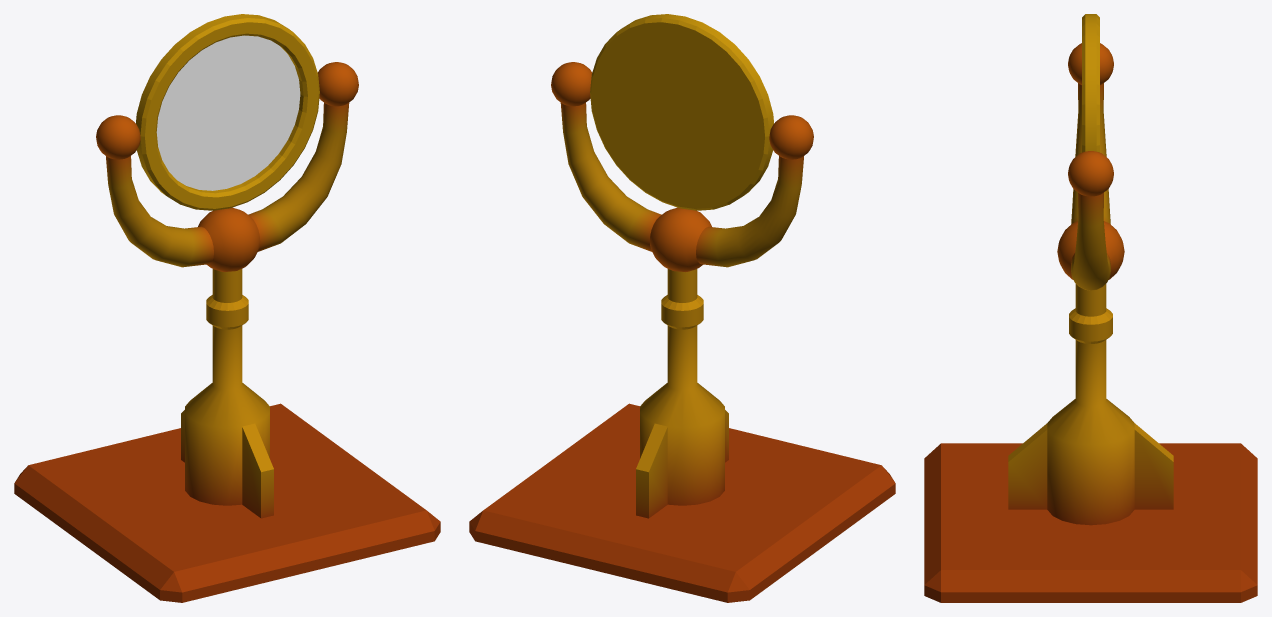
File: MirrorPuzzle.FBX
3 renders of one model, left to right at view 1: azimuth 30°, elevation 25°; view 2: azimuth 150°, elevation 25°; view 3: azimuth 270°, elevation 25°, orthographic. The views are drawn at different scales.
Visible parts, largest first — view 1: MirrorBase, Mirror, MirrorArm; view 2: MirrorBase, Mirror, MirrorArm; view 3: MirrorBase, MirrorArm, Mirror.
Part boxes in pixels (<box>): MirrorBase: <box>14,269,440,602</box>; Mirror: <box>136,14,319,210</box>; MirrorArm: <box>96,62,358,272</box>; MirrorBase: <box>469,269,895,602</box>; Mirror: <box>590,14,773,210</box>; MirrorArm: <box>551,62,813,272</box>; MirrorBase: <box>924,284,1257,602</box>; MirrorArm: <box>1057,43,1124,290</box>; Mirror: <box>1082,14,1099,152</box>.
Size of the model in its own units: 1 by 1.68 by 1.
